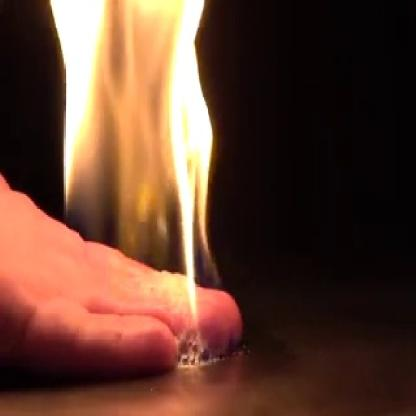fire: (45, 0, 223, 314)
